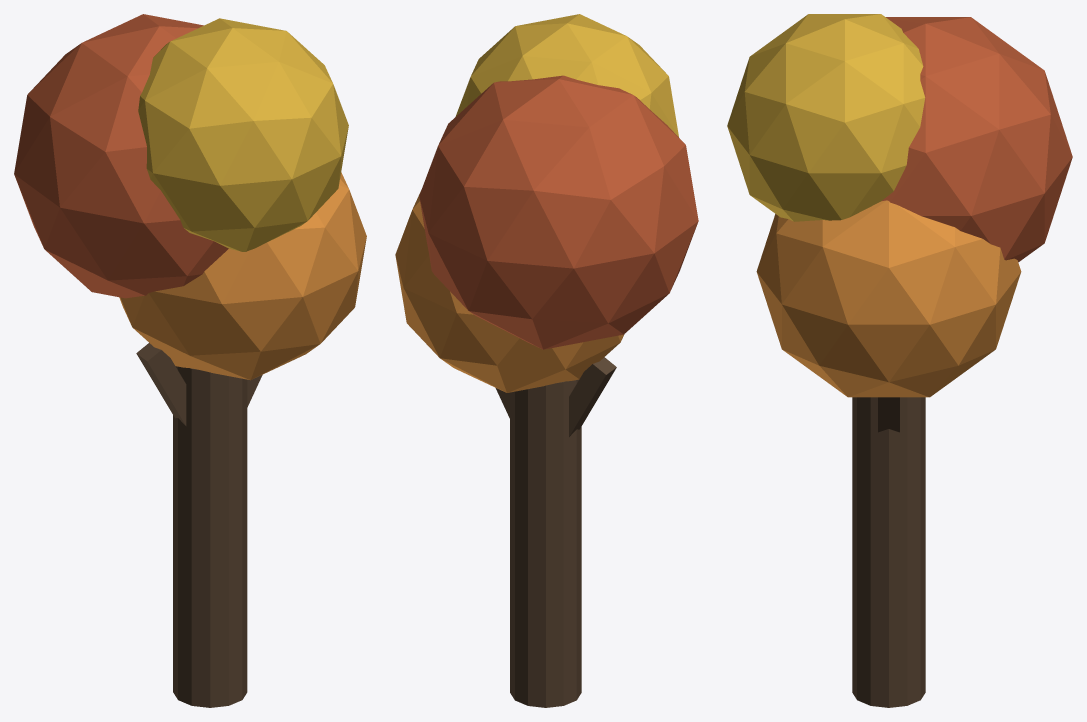
Rendered from oak_tree_autumn.glb.
The picture shows the model from 3 angles, left to right: view 1: azimuth 30°, elevation 25°; view 2: azimuth 150°, elevation 25°; view 3: azimuth 270°, elevation 25°; orthographic projection. The views are drawn at different scales.
Visible parts, largest first — view 1: OakTree_Autumn; view 2: OakTree_Autumn; view 3: OakTree_Autumn.
Boxes of the visible parts, x1,y1,x2,y2 form: OakTree_Autumn: [14, 14, 366, 707]; OakTree_Autumn: [395, 14, 698, 707]; OakTree_Autumn: [727, 14, 1072, 707].
Bounding box in the file's own units: 0.4514 × 1.01 × 0.47.
